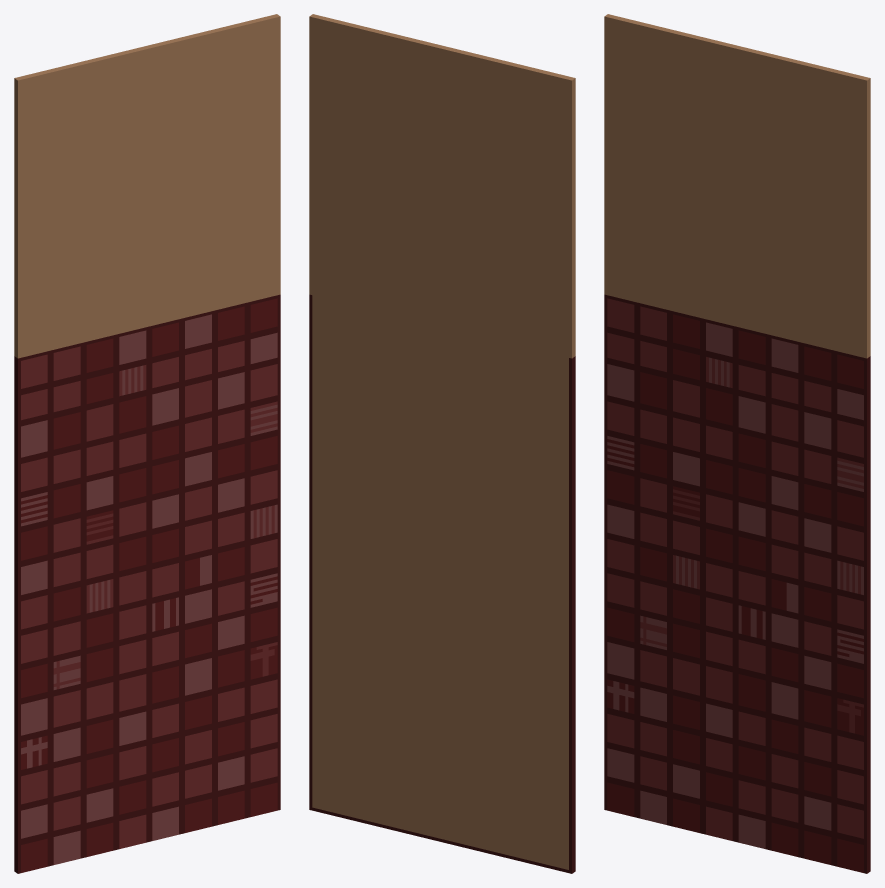
File: wall_kitchen.obj
3 renders of one model, left to right at view 1: azimuth 30°, elevation 25°; view 2: azimuth 150°, elevation 25°; view 3: azimuth 330°, elevation 25°, orthographic.
Size of the model in its own units: 8.8 by 25.4 by 0.2.
Materials: 1 (1 with a texture image).
